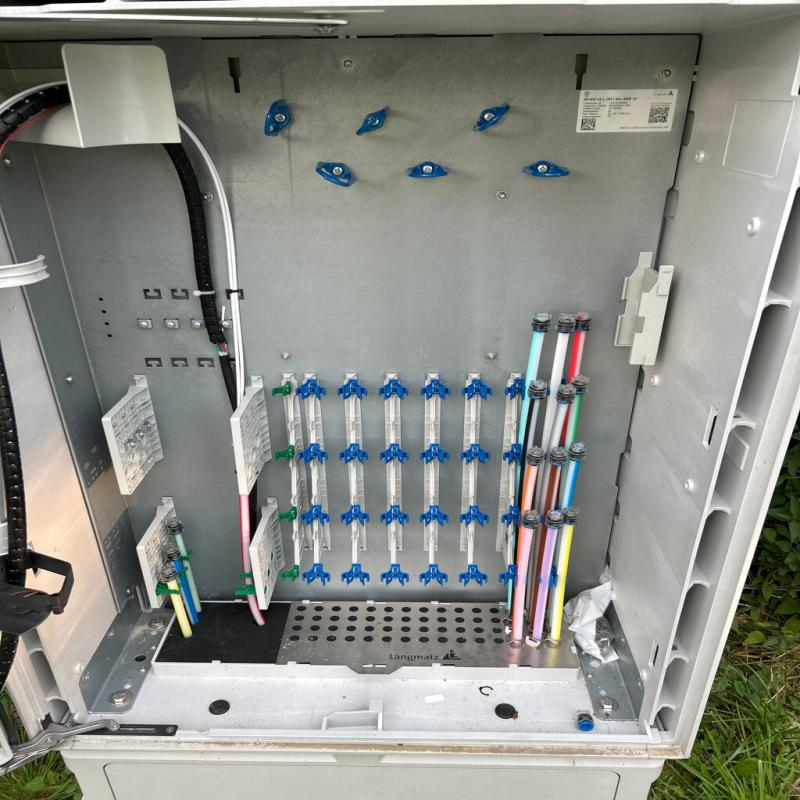NT-Gehause: (0, 10, 721, 742)
